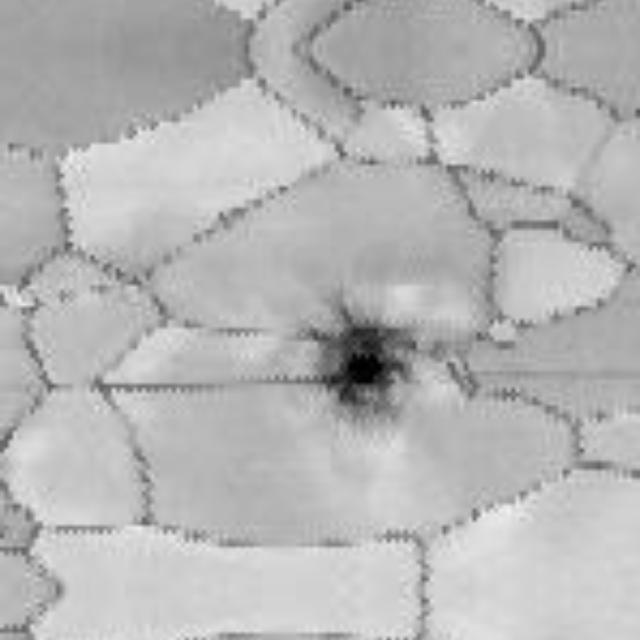good_void: (311, 309, 423, 414)
